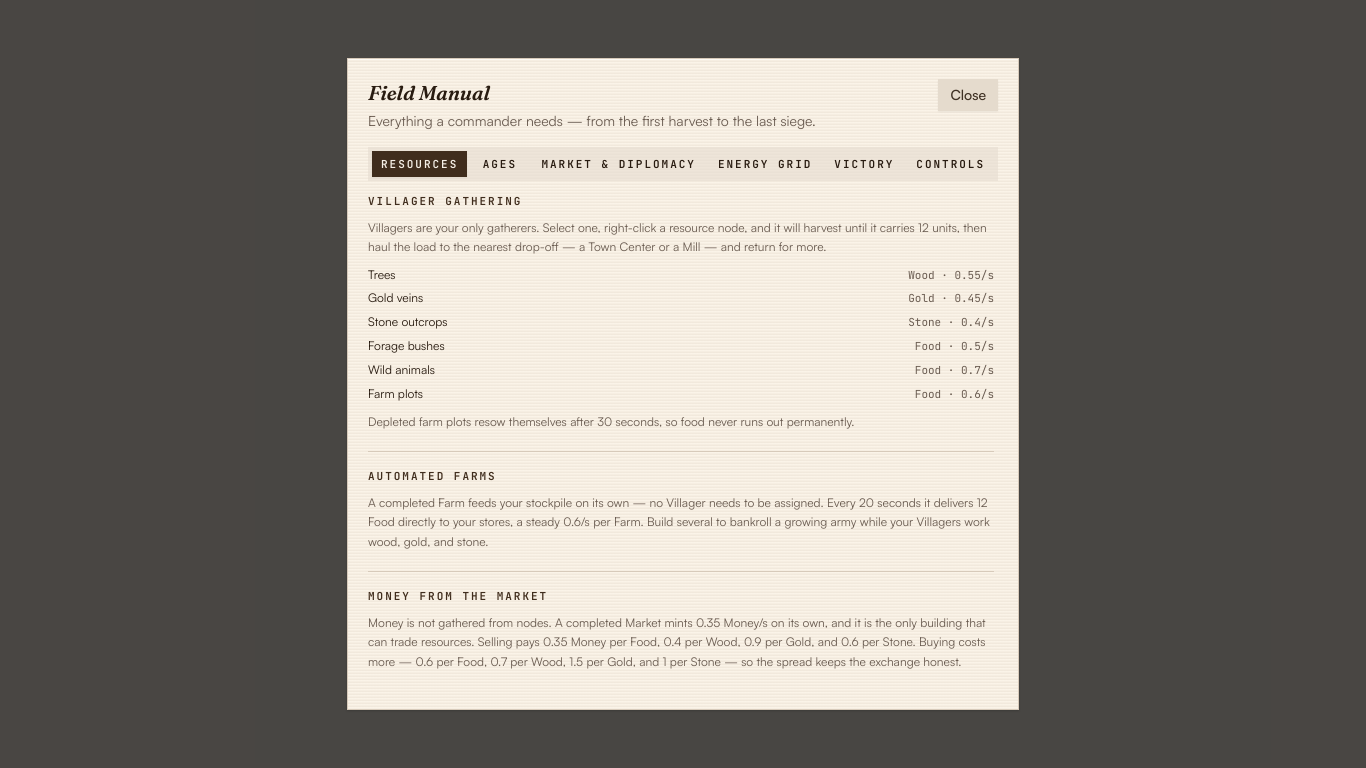
Scenario: HelpOverlay characterization › shows the Field Manual with the core command reference when open
This screenshot has width=1366, height=768.
Expected: the heading "Field Manual" is shown, [368,80,490,105]
Click the tab "Controls". click: click(951, 164)
box: [907,151,994,177]
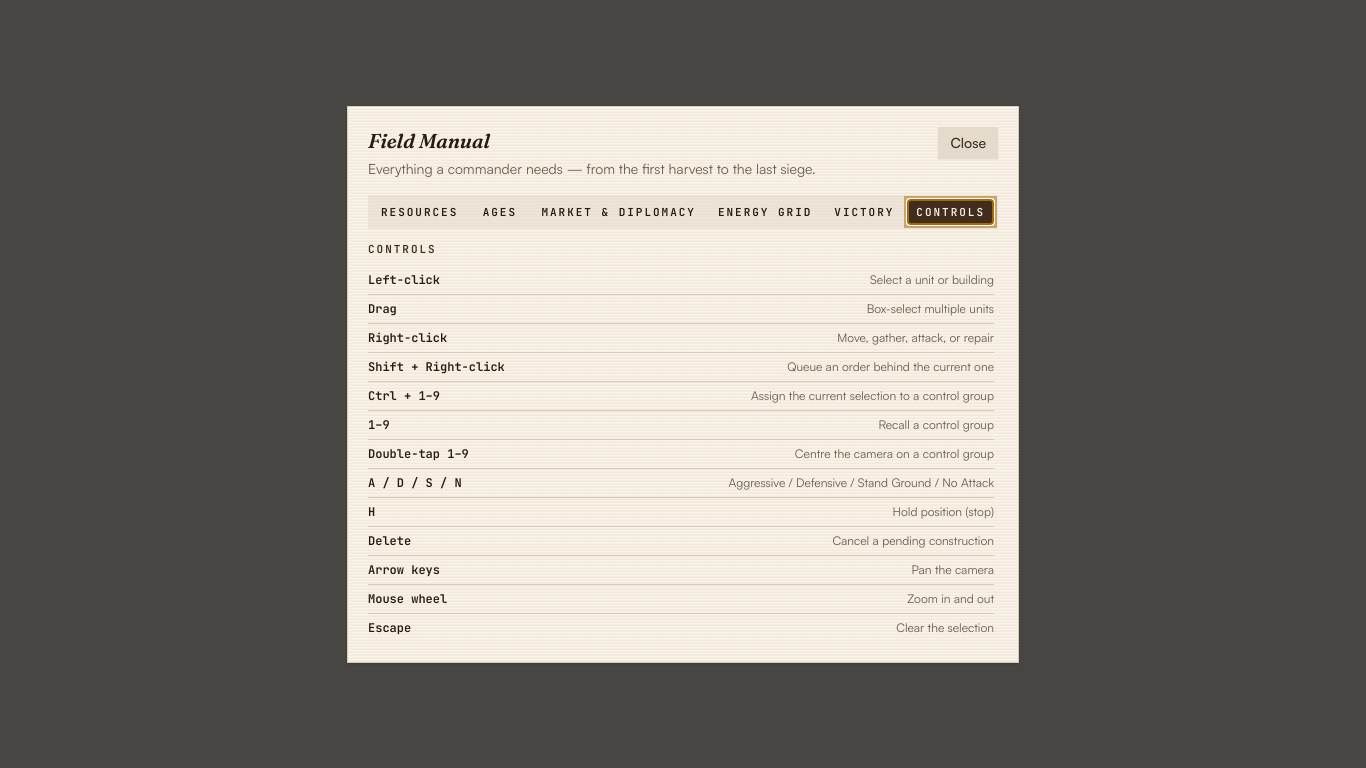
Now the text "Select a unit or building" is shown, box [870,272,994,288]
Now the text "Box-select multiple units" is shown, box [867,300,994,316]
Now the text "Move, gather, attack, or repair" is shown, box [837,330,994,346]
